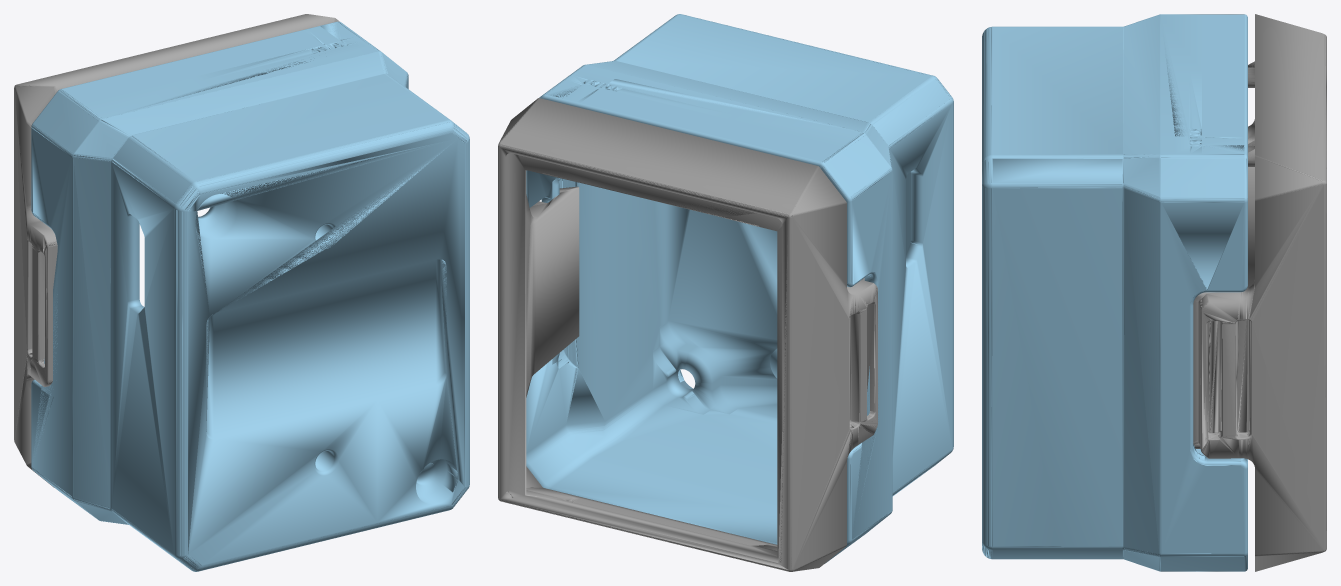
The model's file is gsmini_fingerbox.obj.
3 renders of one model, left to right at view 1: azimuth 30°, elevation 25°; view 2: azimuth 150°, elevation 25°; view 3: azimuth 270°, elevation 25°, orthographic. The views are drawn at different scales.
Visible parts, largest first — view 1: gsmini_shell_hollow_transformed; view 2: gsmini_shell_hollow_transformed; view 3: gsmini_shell_hollow_transformed.
Part boxes in pixels (bbox=[...]): gsmini_shell_hollow_transformed: bbox=[14, 14, 469, 571]; gsmini_shell_hollow_transformed: bbox=[498, 14, 953, 571]; gsmini_shell_hollow_transformed: bbox=[982, 14, 1326, 571].
Bounding box in the file's own units: 0.0289 × 0.032 × 0.024.
